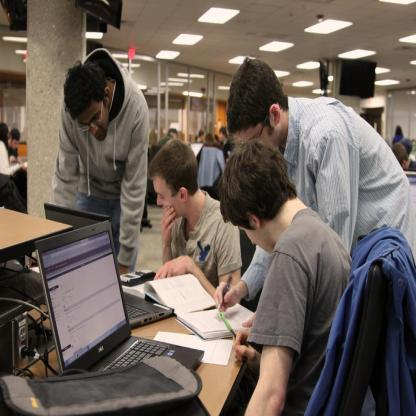board: (35, 219, 204, 376), (44, 201, 174, 332)
